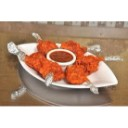chicken_lollipop: (64, 64, 102, 96), (8, 39, 46, 71), (76, 54, 128, 72), (59, 36, 102, 55), (41, 59, 64, 89), (29, 31, 60, 53)
